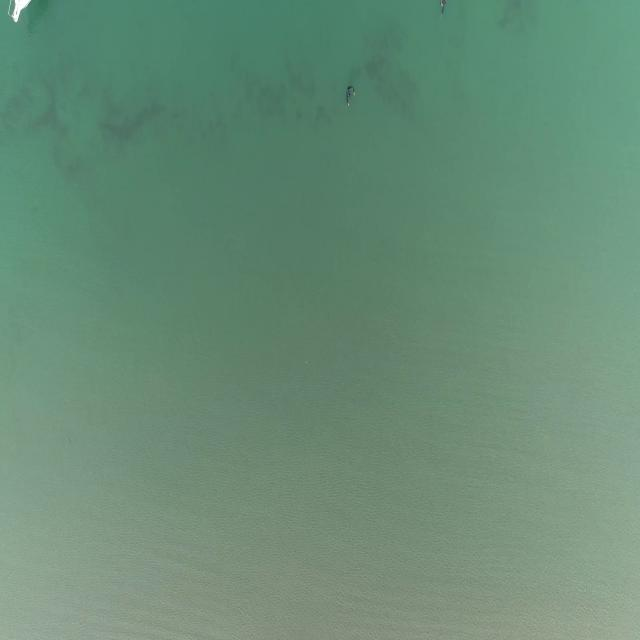person: (344, 85, 358, 107)
